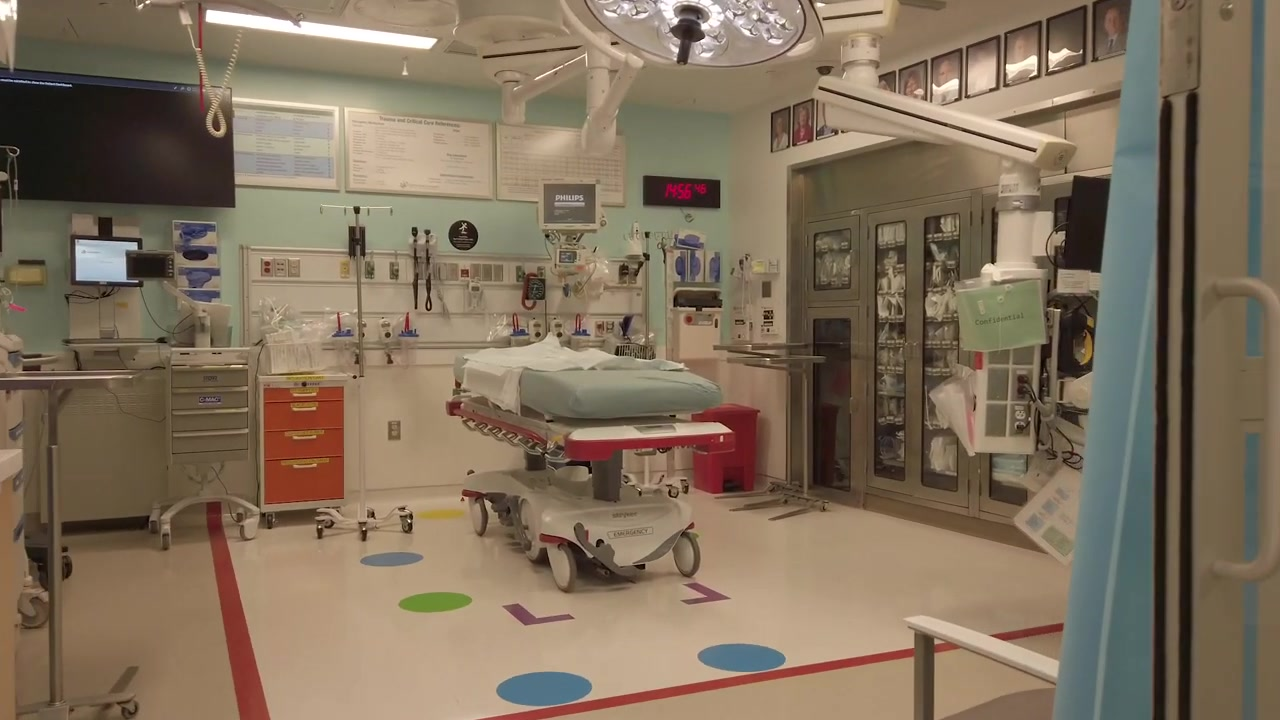TV: (1, 69, 234, 209)
bedside_monitor: (71, 233, 144, 288), (538, 176, 608, 230)
bedside_table: (257, 376, 345, 529)
cabinet: (807, 199, 1056, 527)
chair: (905, 612, 1061, 720)
computer: (1061, 174, 1111, 269)
countertop: (259, 371, 347, 382)
curtain: (1050, 1, 1160, 720)
dispenser: (170, 220, 227, 312)
door_handle: (1209, 277, 1280, 579)
handle: (172, 429, 251, 437), (172, 365, 249, 373), (172, 387, 248, 393), (172, 408, 247, 414), (293, 434, 317, 440), (293, 464, 317, 469), (292, 406, 316, 411), (293, 392, 317, 397)
iv_pole: (320, 204, 391, 516), (622, 230, 667, 358), (655, 234, 677, 360)
medical_drawer: (161, 365, 260, 466)
operating_bed: (446, 336, 733, 591)
surgical_light: (581, 1, 807, 68)
utility_cart: (1, 361, 140, 720), (715, 336, 810, 499), (733, 355, 828, 518)
waste_bin: (691, 402, 761, 494)
